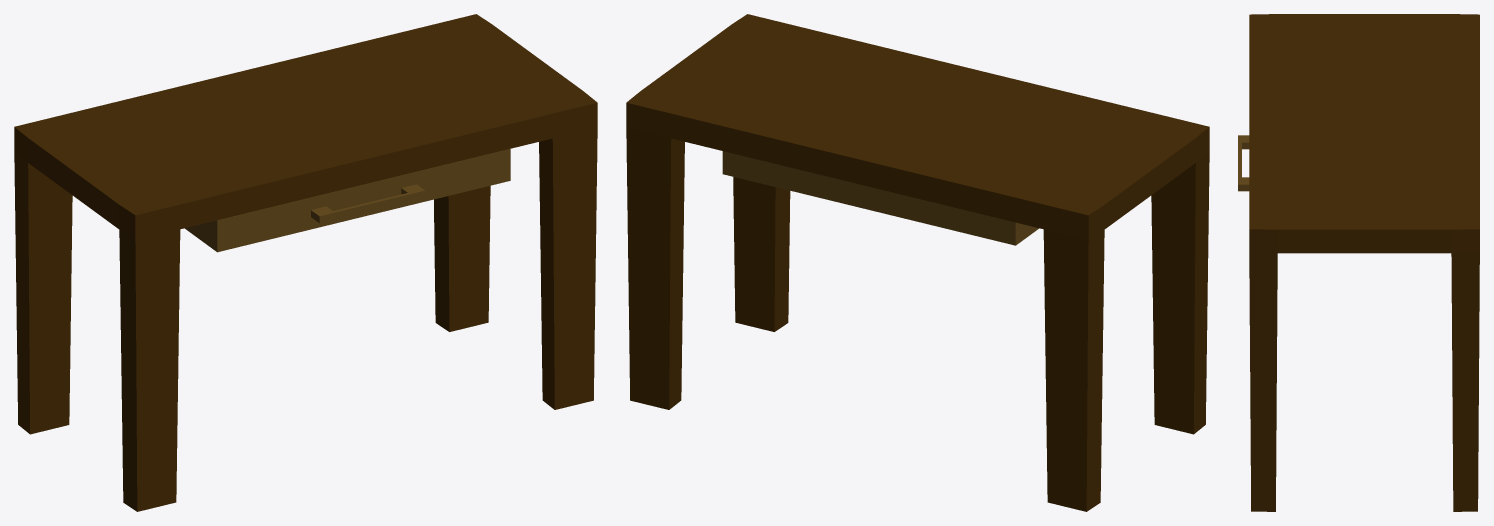
File: Desk.fbx
The picture shows the model from 3 angles, left to right: view 1: azimuth 30°, elevation 25°; view 2: azimuth 150°, elevation 25°; view 3: azimuth 270°, elevation 25°; orthographic projection. The views are drawn at different scales.
Parts seen in each view (by area): view 1: Table, Drawer; view 2: Table, Drawer; view 3: Table, Drawer.
Part boxes in pixels (<box>): Table: <box>14,14,597,511</box>; Drawer: <box>185,149,510,252</box>; Table: <box>626,14,1209,511</box>; Drawer: <box>722,151,1038,245</box>; Table: <box>1249,14,1479,511</box>; Drawer: <box>1238,135,1249,191</box>.
Bounding box in the file's own units: 1.67 × 1.03 × 0.793.
